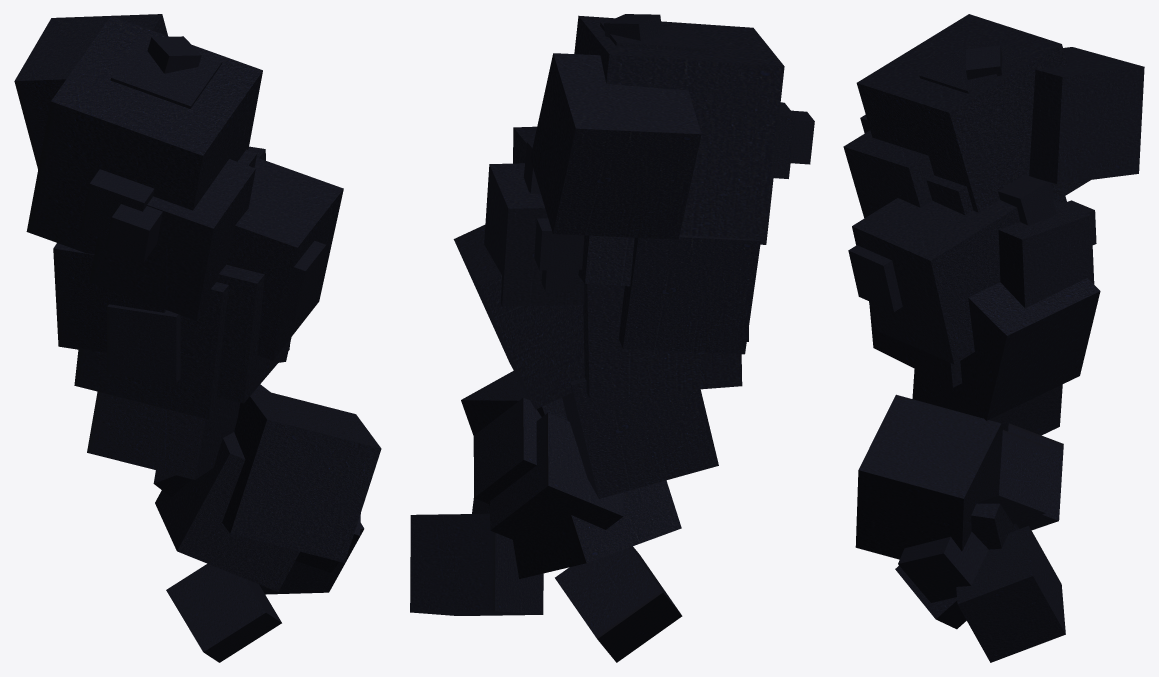
3 views of the same model, side by side, from view 1: azimuth 30°, elevation 25°; view 2: azimuth 150°, elevation 25°; view 3: azimuth 270°, elevation 25° (orthographic). The views are drawn at different scales.
Parts seen in each view (by area): view 1: Cube.001, Cube.037, Cube, Cube.006, Cube.040, Cube.008, Cube.004, Cube.043, Cube.023, Cube.005, Cube.009, Cube.019 (+8 smaller); view 2: Cube.023, Cube.001, Cube.009, Cube.008, Cube.042, Cube.018, Cube.041, Cube.004, Cube.043, Cube.003, Cube.040, Cube.038 (+9 smaller); view 3: Cube.001, Cube.037, Cube.006, Cube.018, Cube.023, Cube.042, Cube.003, Cube, Cube.038, Cube.036, Cube.008, Cube.007 (+8 smaller).
Boxes of the visible parts, box(x1,y1,x2,y2) form: Cube.001: box(26, 16, 262, 254); Cube.037: box(222, 389, 381, 562); Cube: box(89, 159, 255, 320); Cube.006: box(226, 157, 343, 360); Cube.040: box(155, 432, 299, 591); Cube.008: box(87, 391, 240, 479); Cube.004: box(74, 282, 228, 419); Cube.043: box(166, 563, 281, 662); Cube.023: box(14, 14, 167, 169); Cube.005: box(216, 264, 290, 403); Cube.009: box(53, 243, 166, 352); Cube.019: box(107, 304, 180, 383); Cube.023: box(530, 53, 701, 239); Cube.001: box(574, 15, 784, 240); Cube.009: box(618, 234, 760, 354); Cube.008: box(562, 378, 718, 498); Cube.042: box(410, 513, 543, 615); Cube.018: box(453, 225, 584, 409); Cube.041: box(490, 413, 623, 551); Cube.004: box(583, 283, 742, 397); Cube.043: box(555, 546, 682, 662); Cube.003: box(484, 163, 584, 306); Cube.040: box(489, 480, 681, 578); Cube.038: box(473, 397, 541, 504); Cube.001: box(856, 14, 1090, 212); Cube.037: box(855, 394, 1001, 559); Cube.006: box(852, 198, 1020, 364); Cube.018: box(953, 278, 1100, 420); Cube.023: box(1029, 47, 1144, 183); Cube.042: box(956, 525, 1065, 662); Cube.003: box(998, 199, 1094, 308); Cube: box(843, 130, 934, 218); Cube.038: box(976, 430, 1049, 524); Cube.036: box(898, 532, 988, 602); Cube.008: box(912, 369, 1062, 435); Cube.007: box(848, 245, 902, 311).
Size of the model in its own units: 6.22 by 11.72 by 5.67.
Materials: 1 (1 with a texture image).
